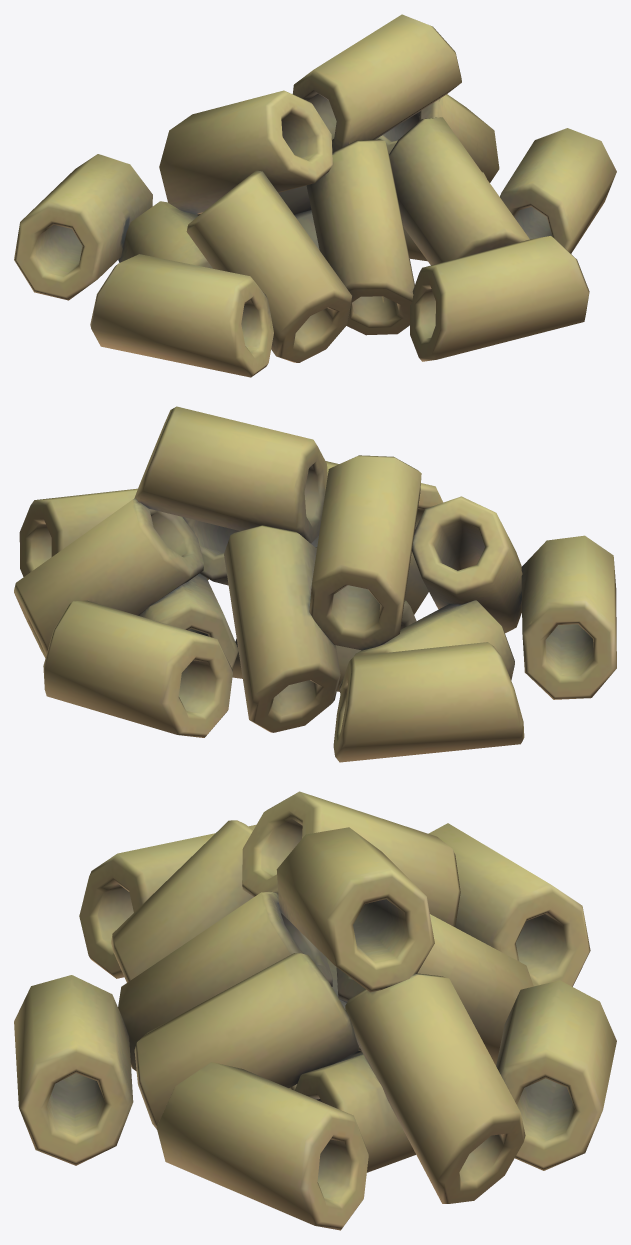
Rendered from Pasta.fbx.
3 views of the same model, one above another, from view 1: azimuth 30°, elevation 25°; view 2: azimuth 150°, elevation 25°; view 3: azimuth 270°, elevation 25° (orthographic). The views are drawn at different scales.
Visible parts, largest first — view 1: plated_pasta_01; view 2: plated_pasta_01; view 3: plated_pasta_01.
Boxes of the visible parts, bbox=[...] form: plated_pasta_01: bbox=[14, 14, 616, 377]; plated_pasta_01: bbox=[14, 406, 616, 762]; plated_pasta_01: bbox=[14, 791, 616, 1230].
Size of the model in its own units: 102 by 43.63 by 79.88.
